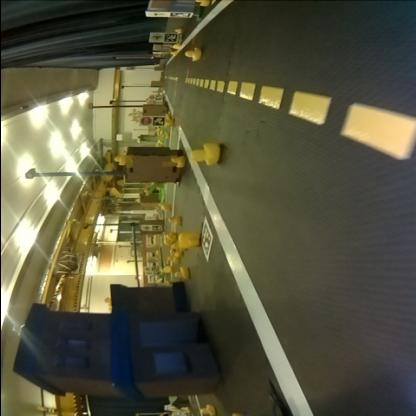Duckie: (189, 143, 217, 166), (177, 234, 197, 248), (182, 48, 198, 62), (174, 268, 186, 280), (200, 406, 214, 416), (170, 158, 182, 168), (168, 218, 180, 226), (193, 1, 207, 7), (114, 156, 122, 165), (170, 250, 178, 256), (168, 259, 177, 263)
Intersection sign: (146, 12, 166, 18), (150, 35, 162, 42)
QR code: (200, 221, 212, 261), (163, 34, 176, 43), (151, 118, 163, 126), (174, 14, 188, 18)
Stop sign: (138, 117, 150, 126)
